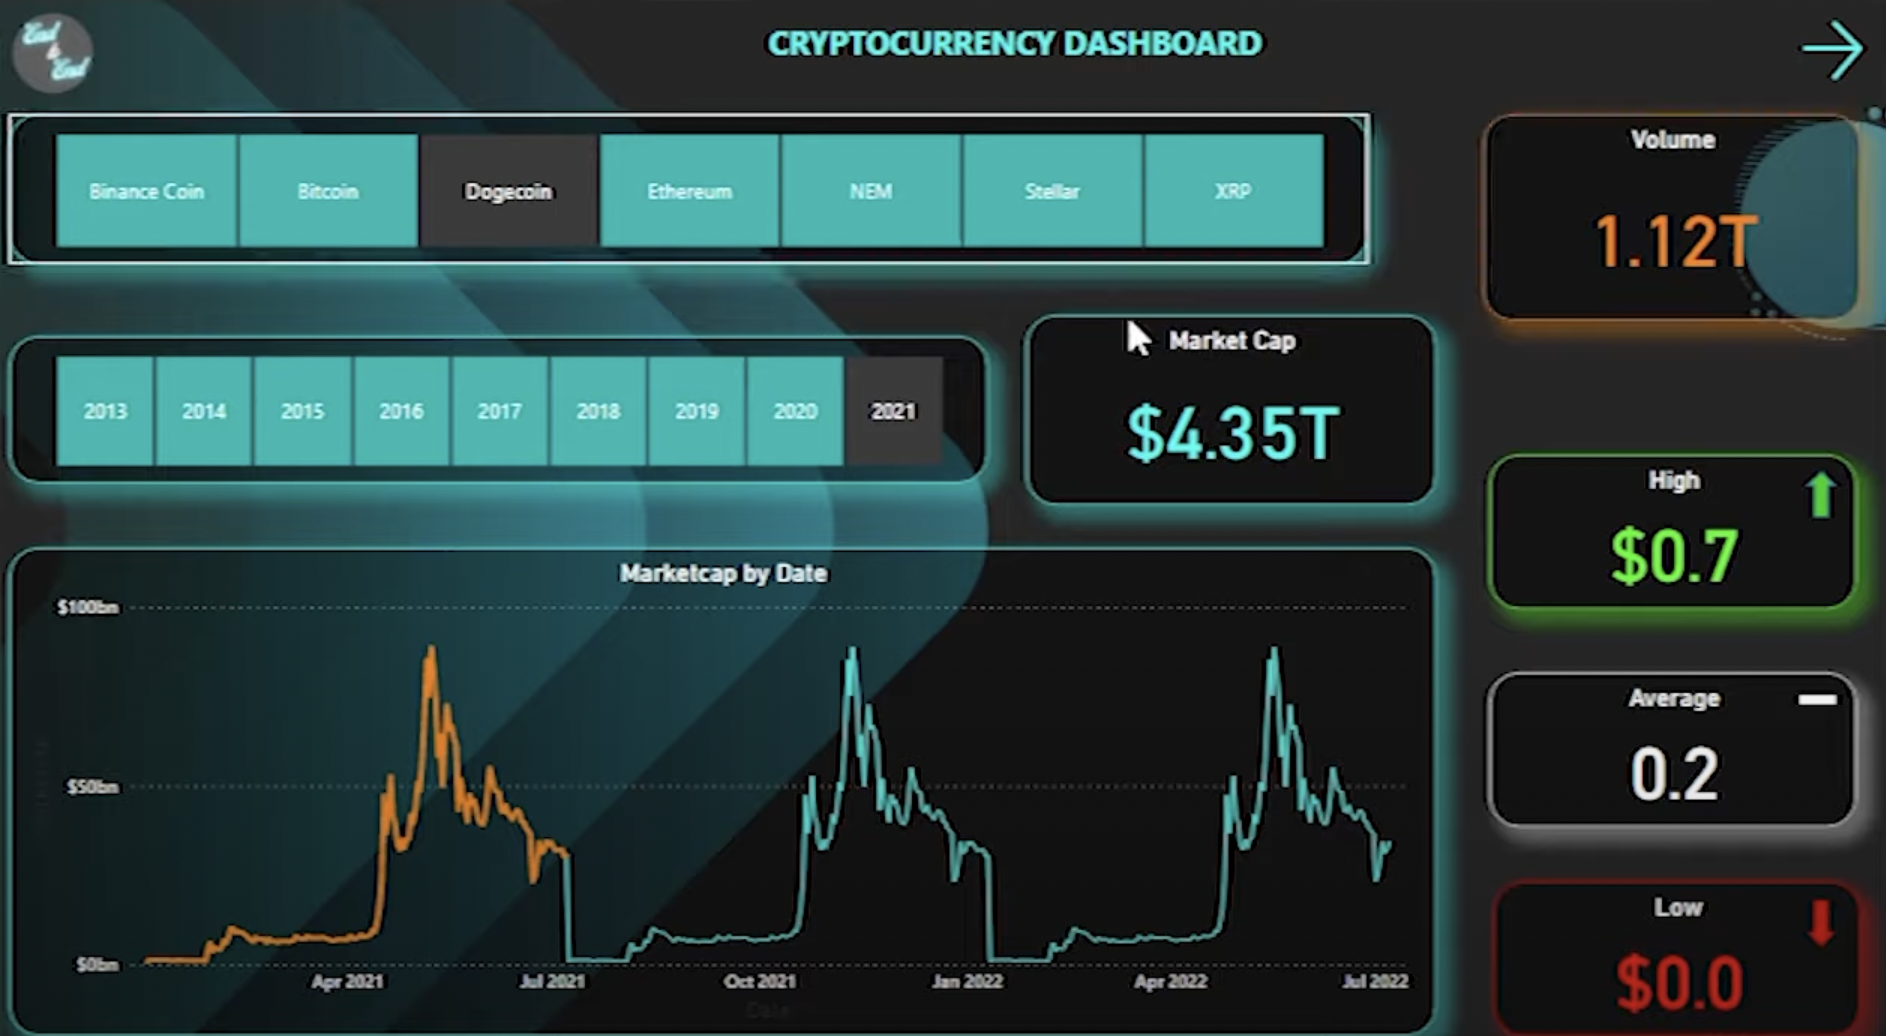

The page's visual inventory and layout, read from the dashboard file:
{"tool":"powerbi","page":{"name":"Page 1","canvas":[1280,720],"ordinal":0},"visuals":[{"type":"slicer","fields":{"Values":["CryptoData.Name"]},"box":[45.4,70.9,942.5,114.8],"z":0},{"type":"slicer","fields":{"Values":["CryptoData.Year"]},"box":[39.7,239.5,823.5,85],"z":1000},{"type":"lineChart","fields":{"Y":["Sum(CryptoData.Marketcap)"],"Category":["CryptoData.Date"]},"box":[45.4,360,942.5,340.2],"z":2000},{"type":"actionButton","box":[1206.1,18.4,73.7,52.4],"z":3000},{"type":"textbox","box":[365.7,19.8,497.5,51],"z":4000},{"type":"card","title":"Market Cap","fields":{"Values":["Sum(CryptoData.Marketcap)"]},"box":[894.3,239.5,219.7,85],"z":5000},{"type":"card","title":"Volume","fields":{"Values":["Sum(CryptoData.Volume)"]},"box":[1023.3,100.6,204.1,85],"z":6000},{"type":"card","title":"HIgh","fields":{"Values":["Max(CryptoData.High)"]},"box":[1016.2,360,248,85],"z":7000},{"type":"card","title":"Market Cap","fields":{"Values":["Avg(CryptoData.Average)"]},"box":[1023.3,464.9,248,85],"z":8000},{"type":"card","title":"Low","fields":{"Values":["Min(CryptoData.Low)"]},"box":[1024.7,578.3,248,85],"z":9000},{"type":"shape","box":[1206.1,391.2,21.3,34],"z":10000},{"type":"shape","box":[1206.1,613.7,21.3,34],"z":11000}]}

Visuals, with their boxes in screenshot pixels (x1, y1, x2, y2), scaled from the page's 1280x720 canvas onto the 1886x1036 screenshot:
slicer - CryptoData.Name: 67 102 1456 267
slicer - CryptoData.Year: 58 345 1272 467
lineChart - Sum(CryptoData.Marketcap) x CryptoData.Date: 67 518 1456 1008
actionButton: 1777 26 1885 102
textbox: 539 28 1272 102
"Market Cap" card: 1318 345 1641 467
"Volume" card: 1508 145 1808 267
"HIgh" card: 1497 518 1863 640
"Market Cap" card: 1508 669 1873 791
"Low" card: 1510 832 1875 954
shape: 1777 563 1808 612
shape: 1777 883 1808 932
